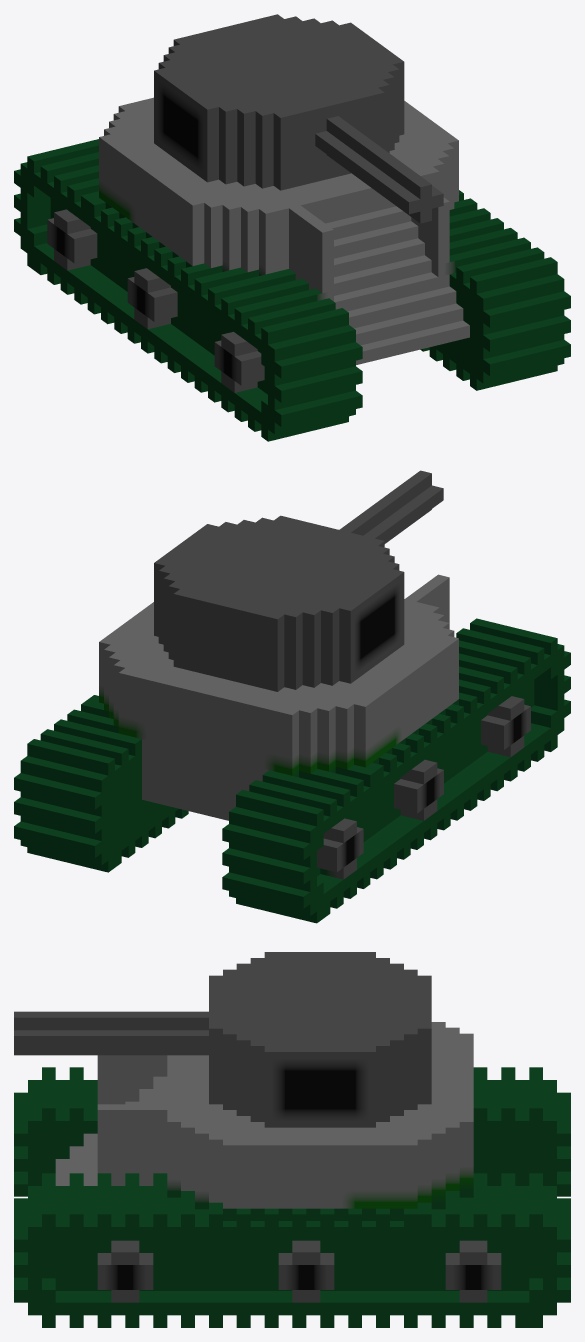
Rendered from Car_21.fbx.
The picture shows the model from 3 angles, top to bottom: view 1: azimuth 30°, elevation 25°; view 2: azimuth 150°, elevation 25°; view 3: azimuth 270°, elevation 25°; orthographic projection. The views are drawn at different scales.
Parts seen in each view (by area): view 1: Car_21; view 2: Car_21; view 3: Car_21.
Boxes of the visible parts, box(x1,y1,x2,y2) form: Car_21: box(14, 14, 570, 441); Car_21: box(14, 470, 570, 923); Car_21: box(14, 952, 570, 1327).
Bounding box in the file's own units: 25 × 20 × 40.
1 material, 1 textured.
